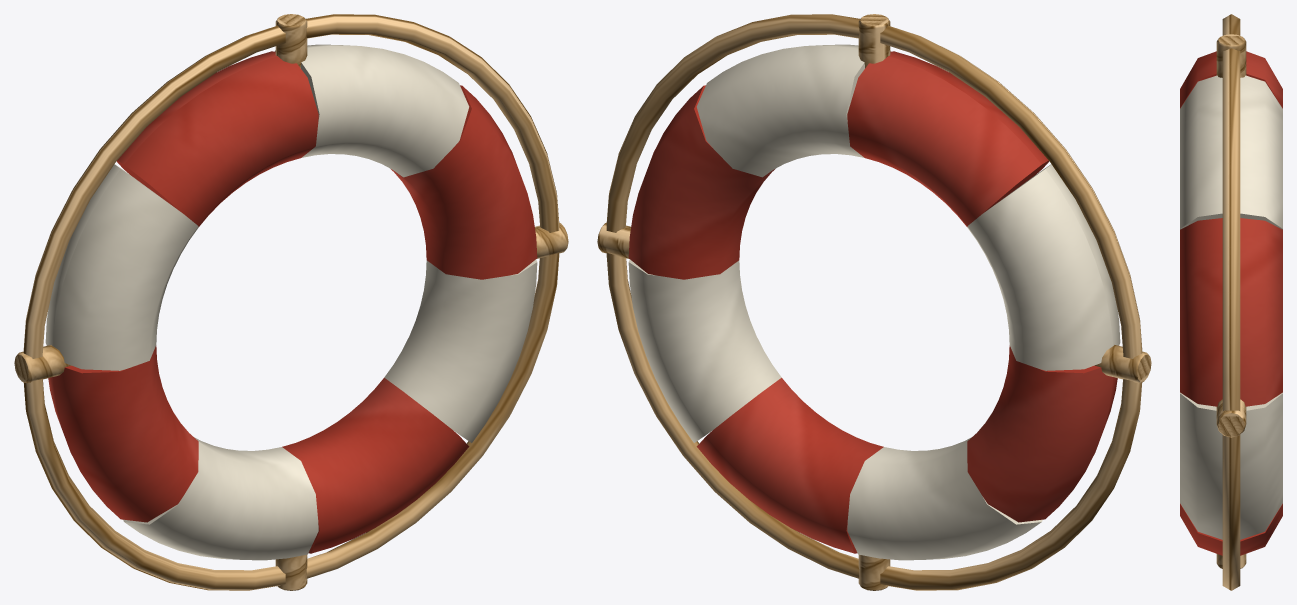
File: SM_Lifebuoy.glb
The picture shows the model from 3 angles, left to right: view 1: azimuth 30°, elevation 25°; view 2: azimuth 150°, elevation 25°; view 3: azimuth 270°, elevation 25°; orthographic projection. The views are drawn at different scales.
Visible parts, largest first — view 1: SM_Lifebuoy; view 2: SM_Lifebuoy; view 3: SM_Lifebuoy.
Boxes of the visible parts, left/top/right/bottom form: SM_Lifebuoy: left=14, top=14, right=568, bottom=590; SM_Lifebuoy: left=597, top=14, right=1151, bottom=590; SM_Lifebuoy: left=1180, top=14, right=1282, bottom=590.
Size of the model in its own units: 1.02 by 1.02 by 0.1812.
1 material, 1 textured.
